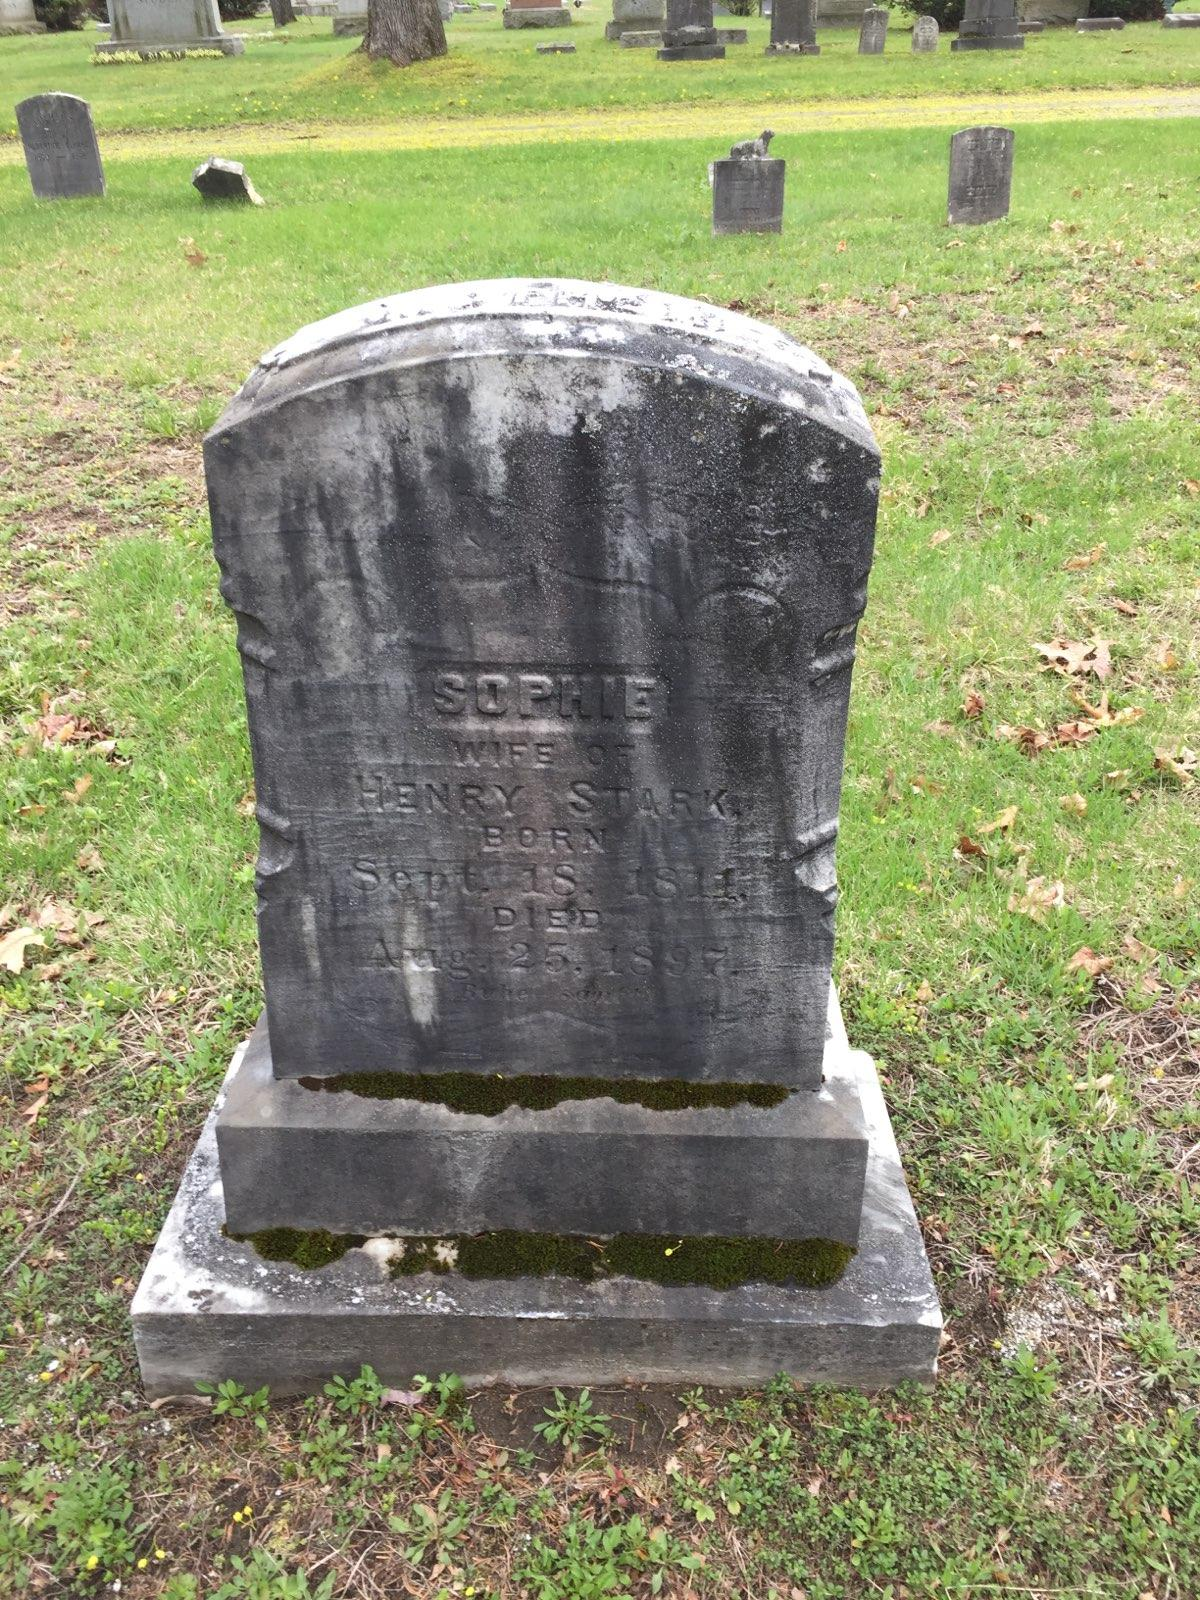upright: (213, 278, 882, 1104)
